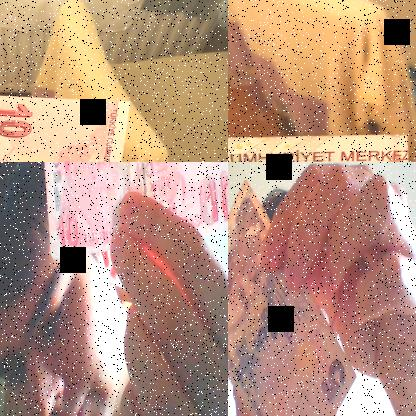5 TL: (0, 95, 135, 161)
